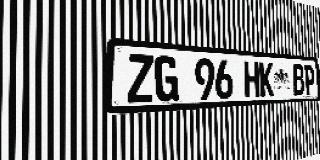6: (215, 59, 233, 99)
9: (195, 58, 215, 100)
B: (292, 64, 305, 96)
G: (154, 55, 179, 102)
H: (244, 61, 260, 98)
K: (259, 62, 274, 97)
P: (304, 65, 315, 95)
Z: (127, 53, 154, 103)
